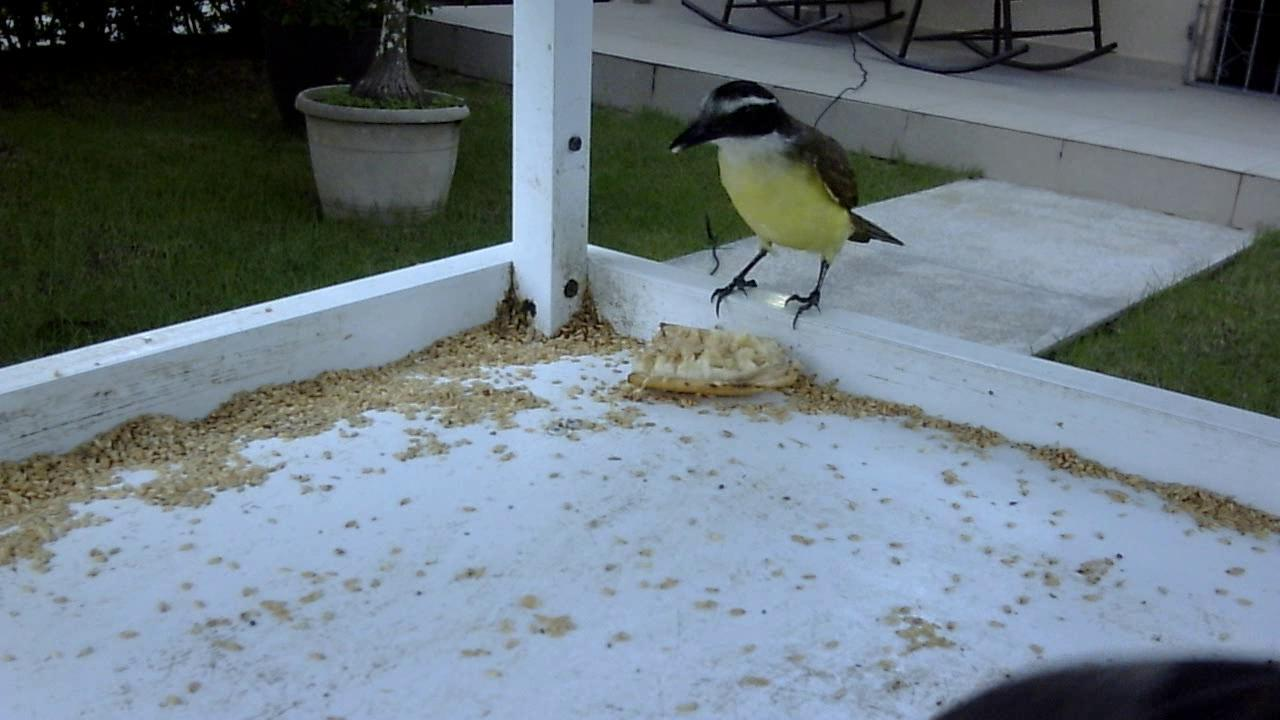bem_te_vi: (655, 59, 909, 352)
